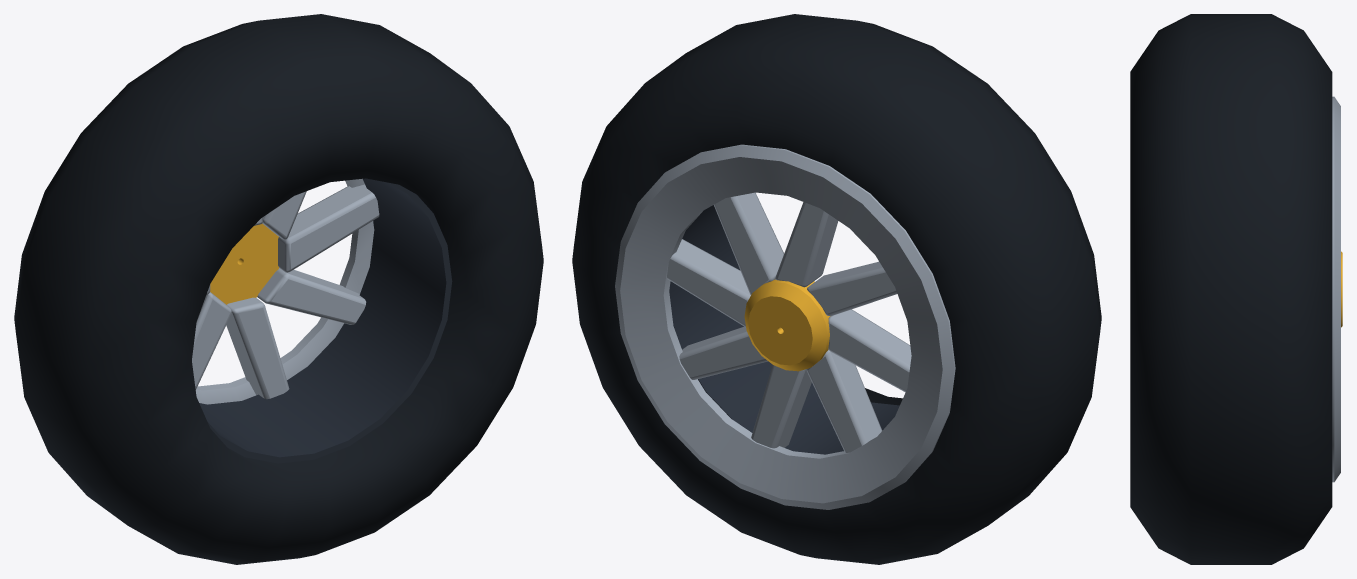
3 views of the same model, side by side, from view 1: azimuth 30°, elevation 25°; view 2: azimuth 150°, elevation 25°; view 3: azimuth 270°, elevation 25° (orthographic).
Parts seen in each view (by area): view 1: W08_Tire, W08_Rim_barrel, W08_Swept_blade_0, W08_Rim_outer_lip, W08_Swept_blade_6, W08_Swept_blade_7, W08_Axle_cap, W08_Swept_blade_5, W08_Swept_blade_1; view 2: W08_Tire, W08_Rim_outer_lip, W08_Rim_barrel, W08_Axle_cap, W08_Swept_blade_5, W08_Swept_blade_1, W08_Swept_blade_4, W08_Swept_blade_0, W08_Swept_blade_2, W08_Swept_blade_6, W08_Swept_blade_3, W08_Swept_blade_7; view 3: W08_Tire, W08_Rim_outer_lip.
Boxes of the visible parts, x1,y1,x2,y2 form: W08_Tire: [14, 14, 543, 564]; W08_Rim_barrel: [199, 178, 452, 463]; W08_Swept_blade_0: [278, 184, 379, 272]; W08_Rim_outer_lip: [195, 178, 374, 404]; W08_Swept_blade_6: [226, 297, 289, 399]; W08_Swept_blade_7: [257, 268, 366, 324]; W08_Axle_cap: [210, 223, 278, 304]; W08_Swept_blade_5: [192, 292, 231, 389]; W08_Swept_blade_1: [262, 191, 306, 239]; W08_Tire: [572, 14, 1101, 564]; W08_Rim_outer_lip: [615, 144, 955, 509]; W08_Rim_barrel: [669, 205, 899, 454]; W08_Axle_cap: [744, 279, 830, 371]; W08_Swept_blade_5: [806, 350, 882, 452]; W08_Swept_blade_1: [714, 192, 783, 294]; W08_Swept_blade_4: [828, 309, 911, 392]; W08_Swept_blade_0: [667, 239, 750, 327]; W08_Swept_blade_2: [775, 202, 838, 287]; W08_Swept_blade_6: [751, 365, 811, 448]; W08_Swept_blade_3: [807, 261, 897, 315]; W08_Swept_blade_7: [679, 326, 767, 379]; W08_Tire: [1130, 14, 1332, 564]; W08_Rim_outer_lip: [1332, 96, 1340, 482].
Size of the model in its own units: 3.15 by 3.15 by 1.21.
